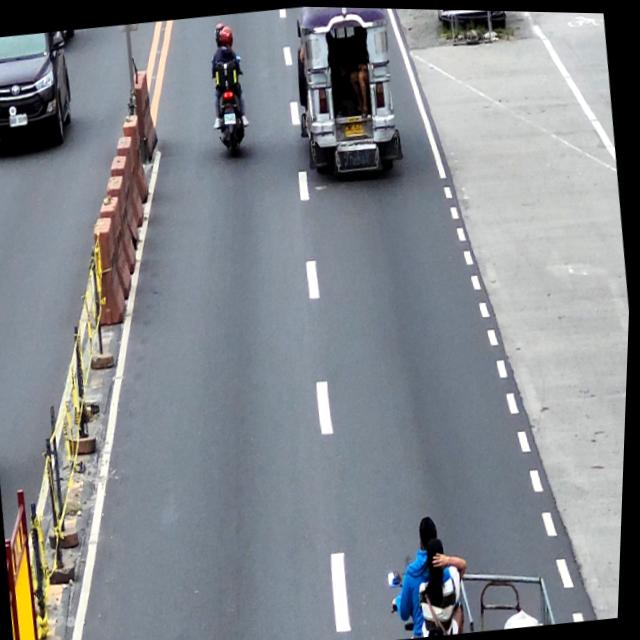Car: (0, 28, 79, 158)
Jeep: (285, 5, 408, 184)
License-Plate: (344, 119, 366, 135), (9, 113, 29, 128), (224, 111, 237, 124)
Motorcycle: (209, 54, 253, 155)
